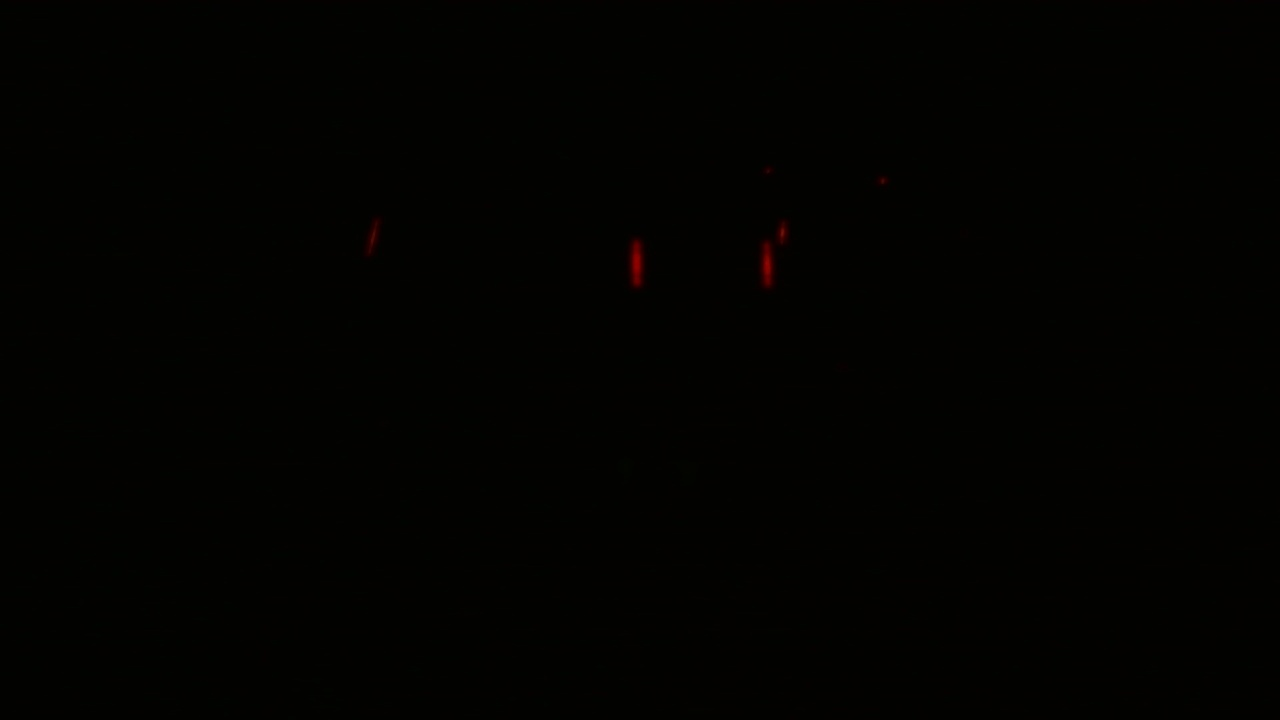pair1: (626, 238, 776, 291)
